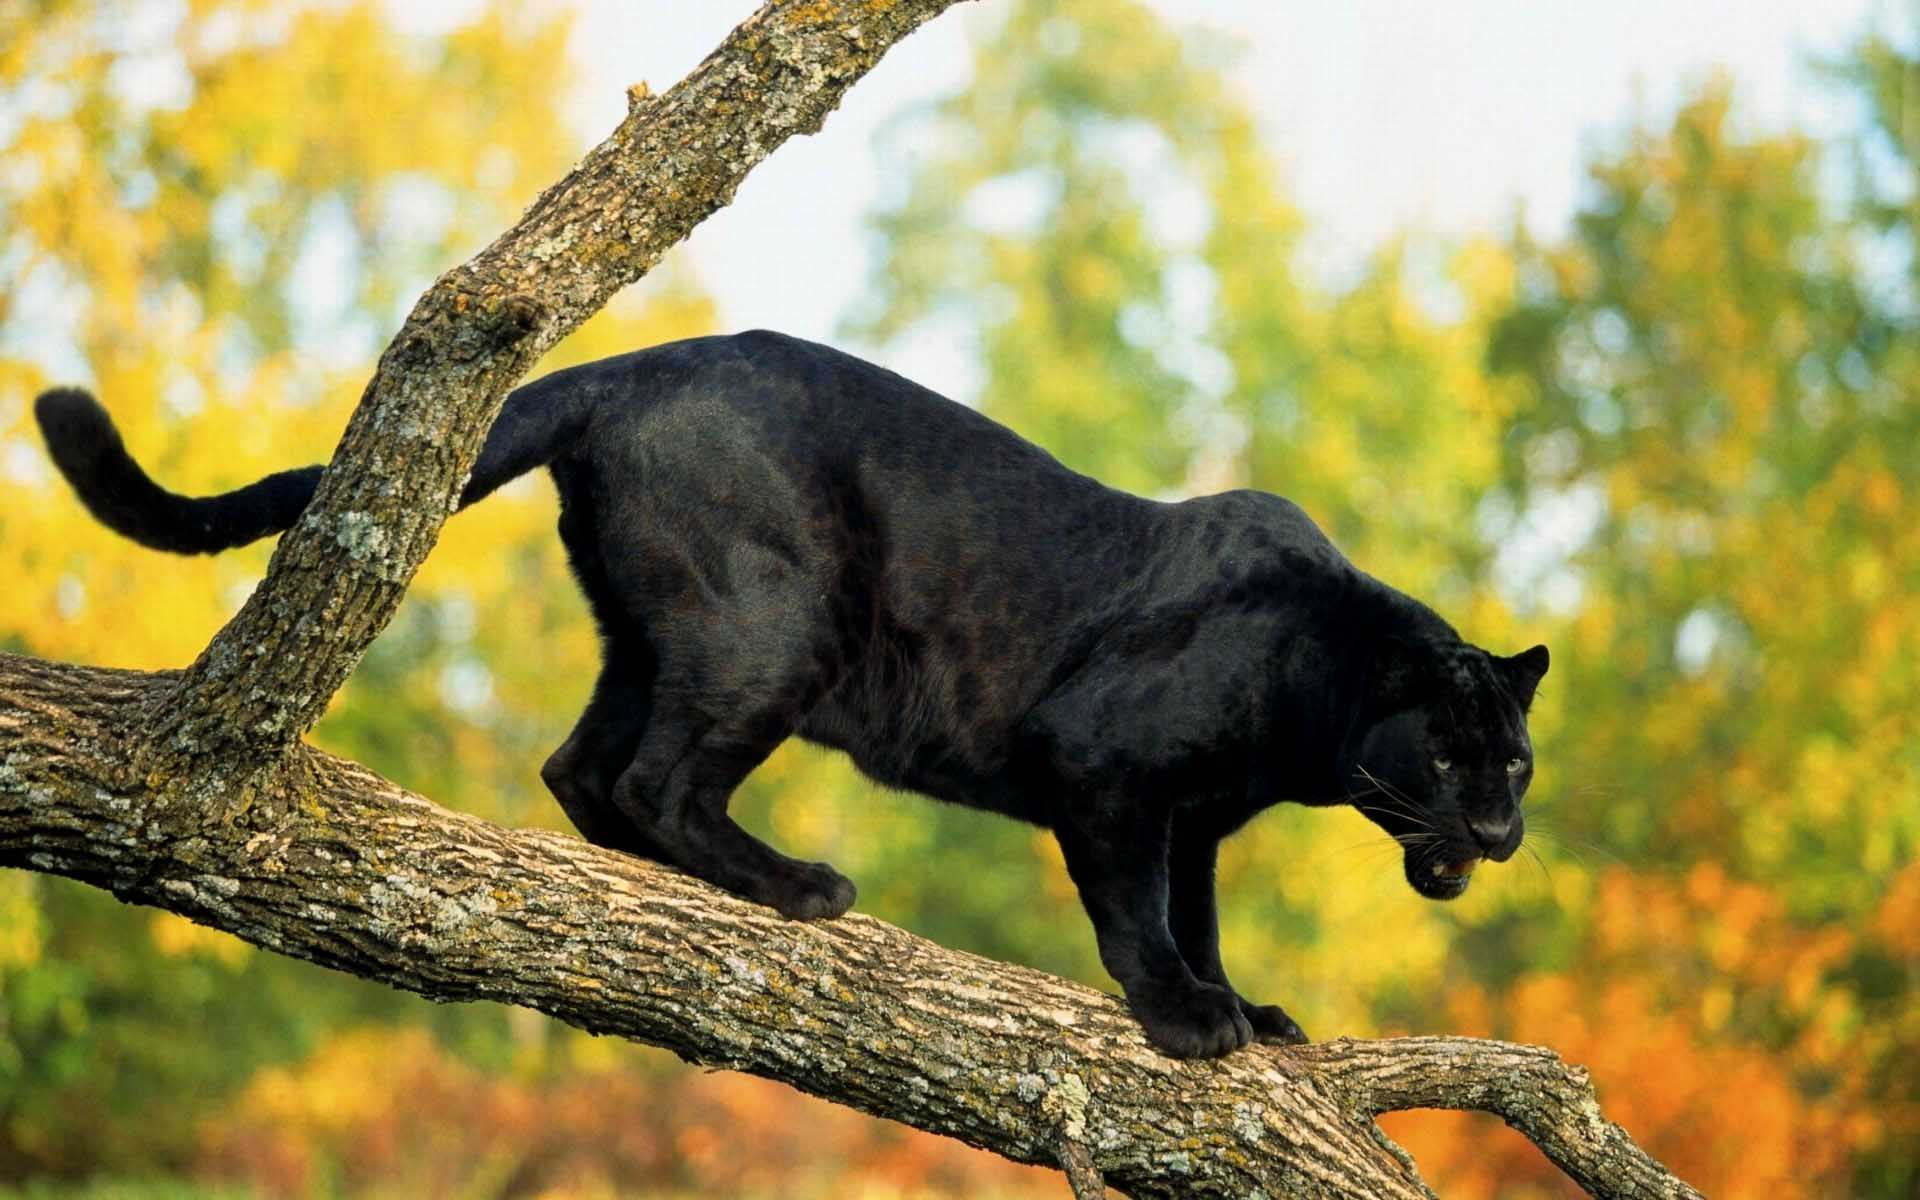panther: (1328, 579, 1599, 950)
